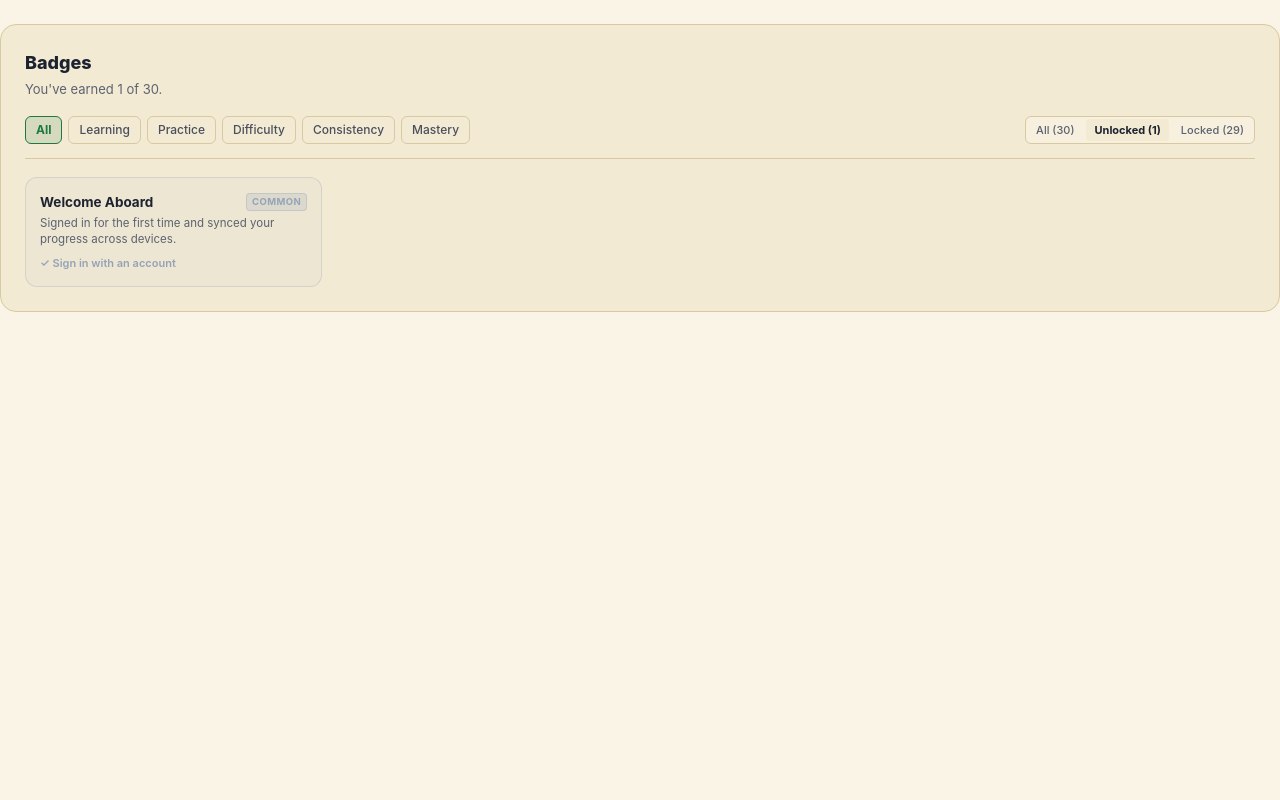
it: BadgeShowcase (spec v2 Part 4) › filters badges by category and status
The image size is (1280, 800).
Click the button "All (30)": x=1055, y=130 [1028,118,1082,141]
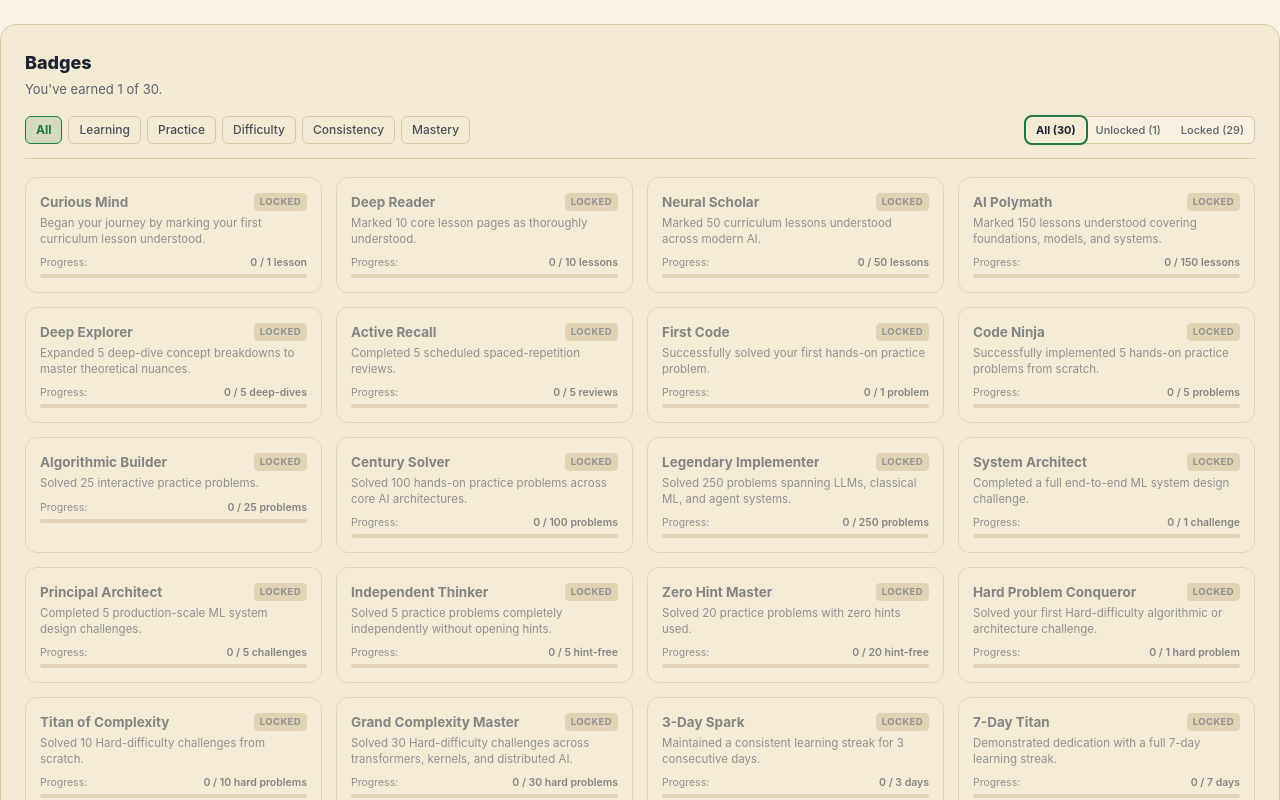
// Click "Learning" category tab
Click the button "Learning": x=105, y=130 [68,116,141,144]
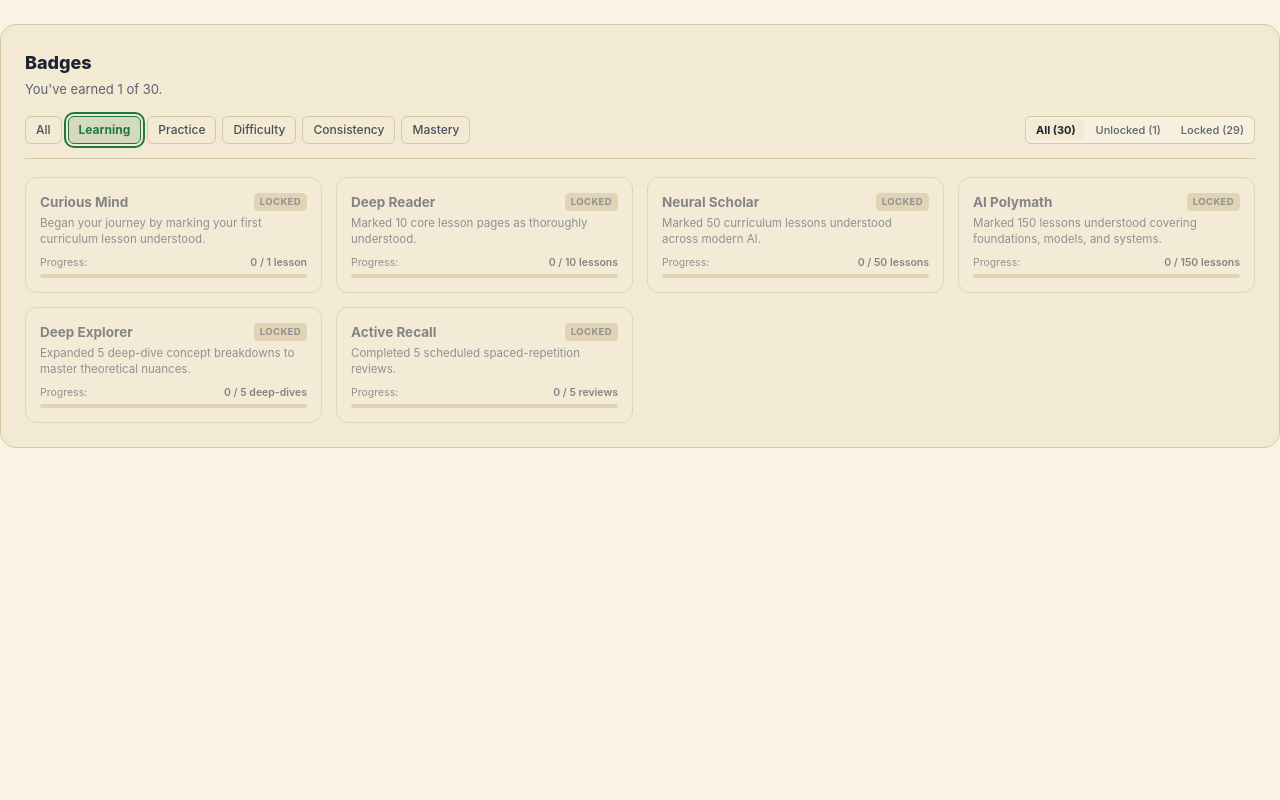
Expected: the text "Curious Mind" is shown, [40,192,128,212]
Expected: the text "Deep Reader" is shown, [351,192,435,212]
Expected: the text "Neural Scholar" is shown, [662,192,759,212]
// Click "All" tab again
Click the button "All": x=43, y=130 [25,116,62,144]
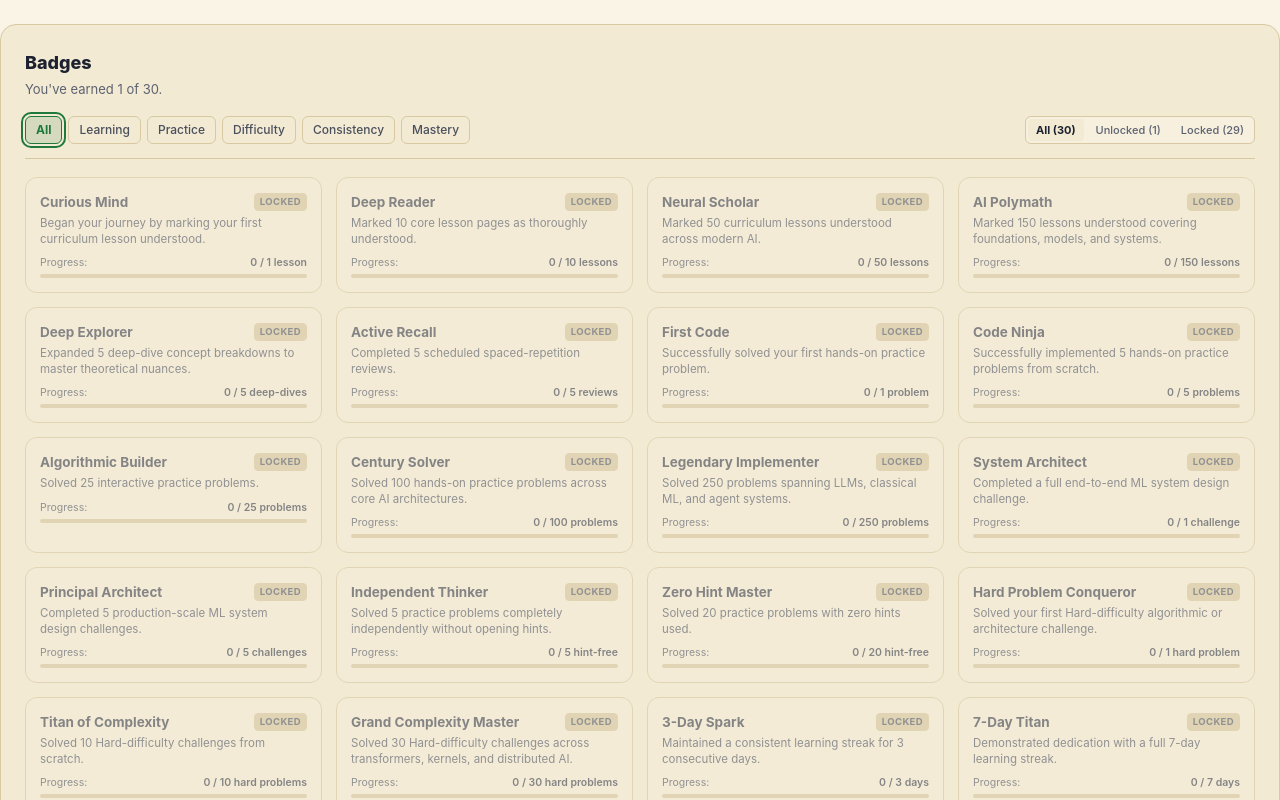
Expected: the text "Code Ninja" is shown, [973,322,1045,342]
